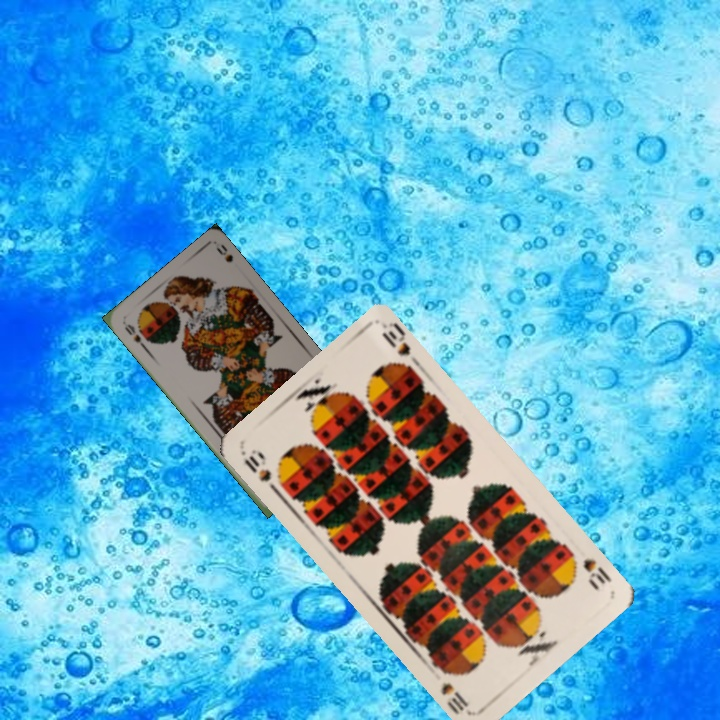S10: (565, 548, 614, 593), (239, 445, 274, 485)
SO: (120, 320, 150, 353)
